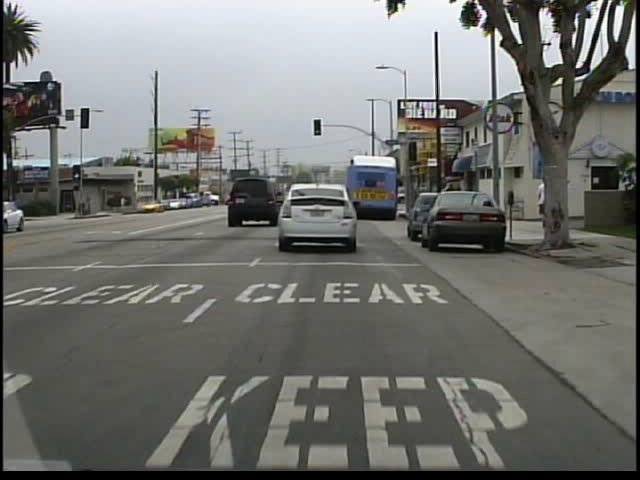person: (532, 174, 551, 232), (543, 177, 560, 233), (414, 180, 433, 220), (119, 195, 130, 213)
